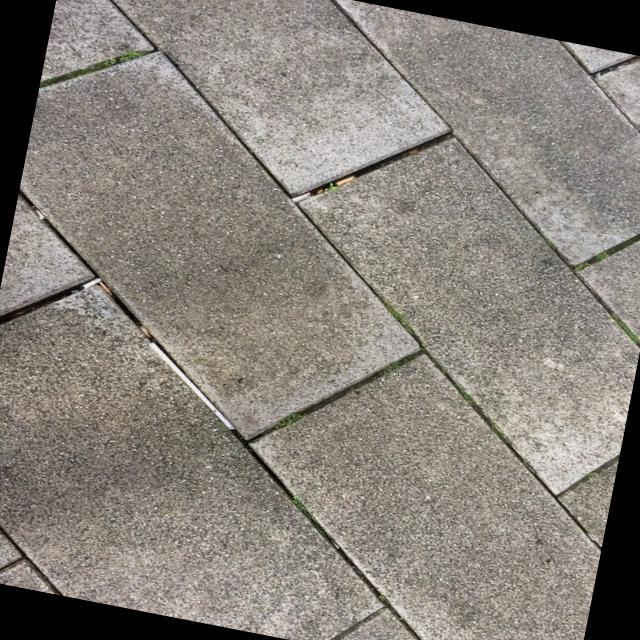Trash: (134, 338, 255, 435), (331, 170, 371, 194), (289, 188, 316, 210)
